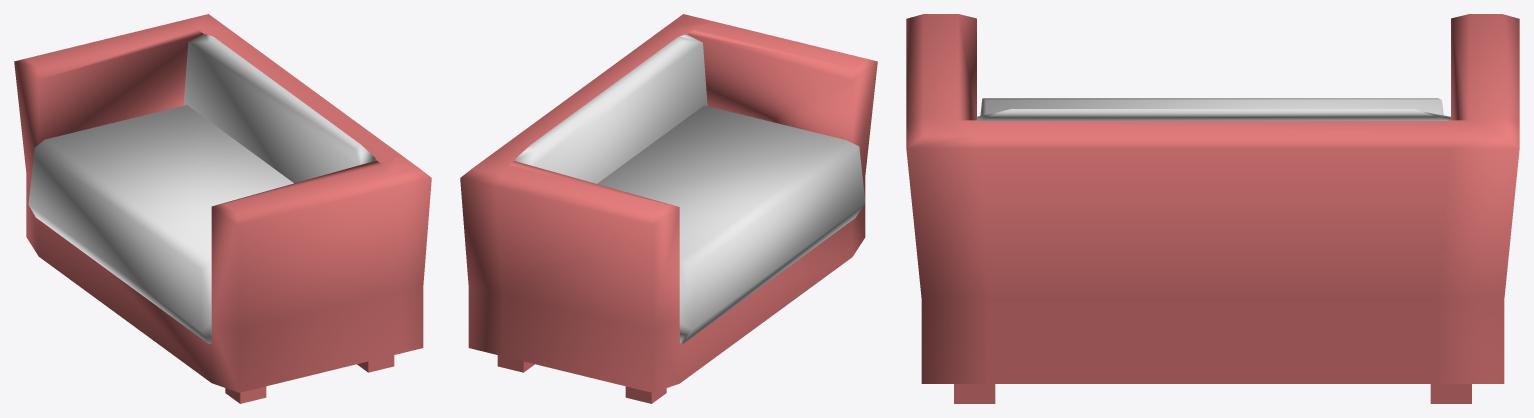
File: Couch.fbx
The picture shows the model from 3 angles, left to right: view 1: azimuth 30°, elevation 25°; view 2: azimuth 150°, elevation 25°; view 3: azimuth 270°, elevation 25°; orthographic projection. The views are drawn at different scales.
Visible parts, largest first — view 1: Couch; view 2: Couch; view 3: Couch.
Part boxes in pixels (left/top/right/bottom): Couch: left=14, top=14, right=431, bottom=403; Couch: left=460, top=14, right=877, bottom=403; Couch: left=906, top=14, right=1519, bottom=403.
Size of the model in its own units: 106 by 103 by 199.
